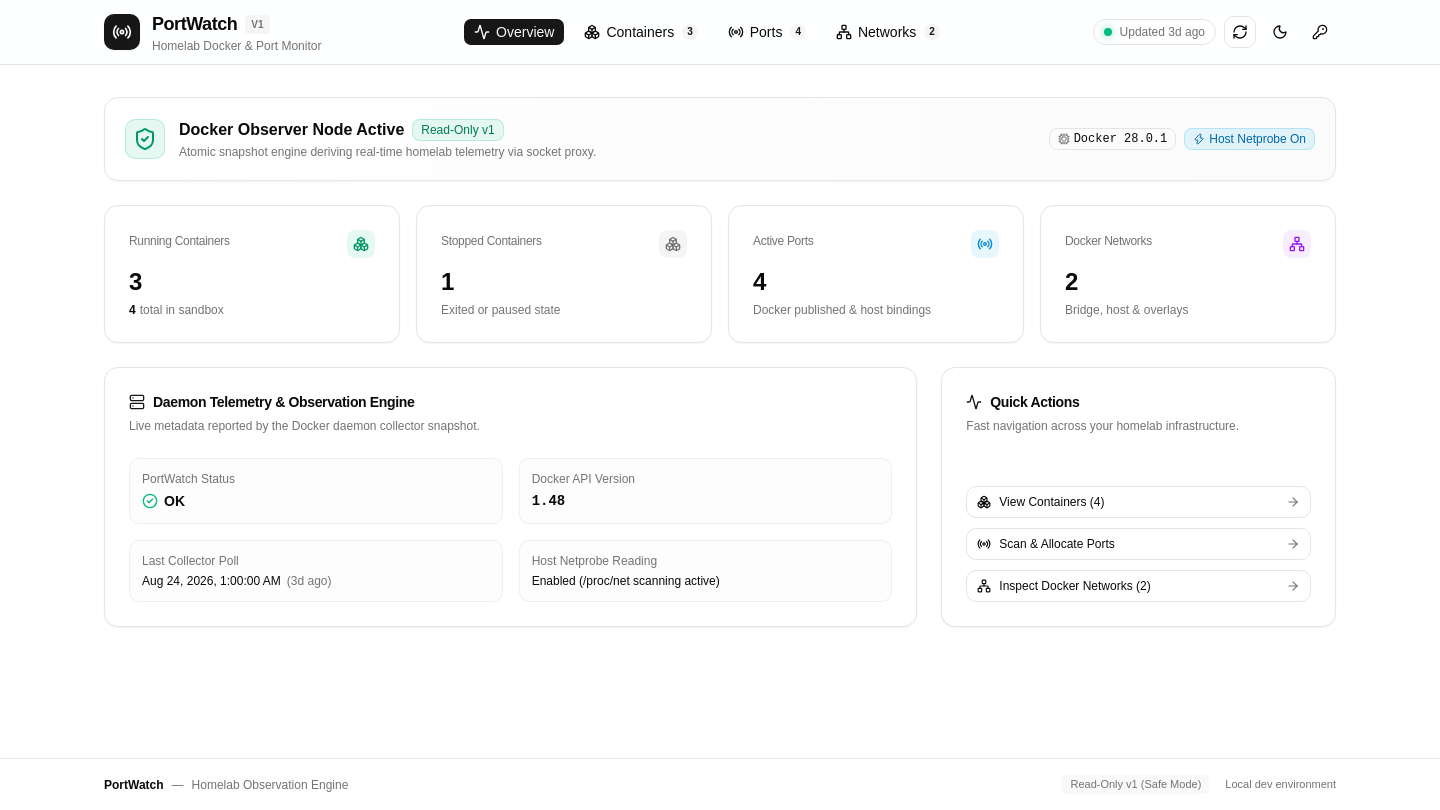
Test: App Dashboard › switches to ports tab and displays port matrix
Expected: the text "Docker 28.0.1" is shown, [1049,128,1176,150]
Click the button "Ports 4" at (767, 32), box [717,18,817,46]
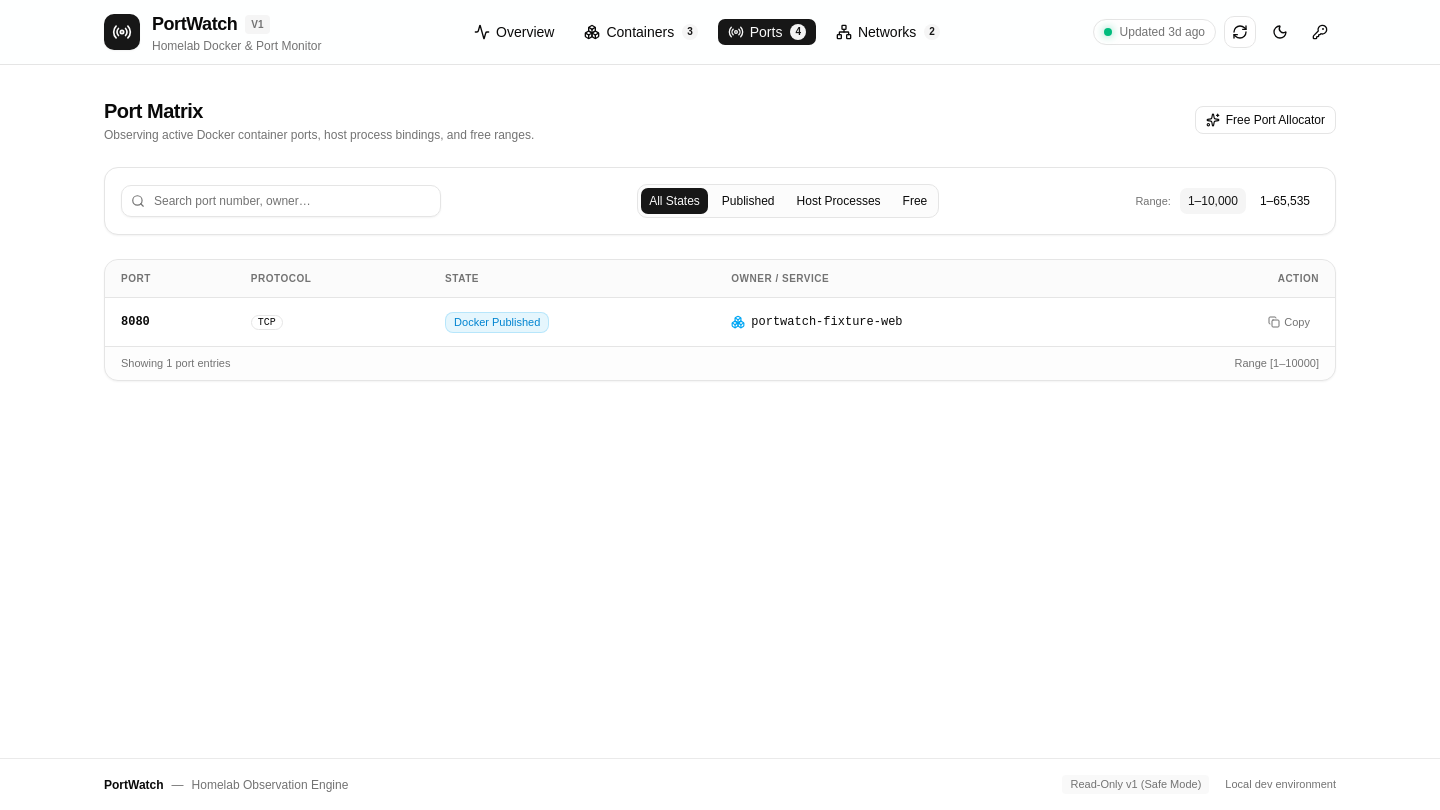
Expected: the text "Docker Published" is shown, [445,312,549,333]
Expected: the heading "Port Matrix" is shown, [104,100,203,122]
Expected: the text "8080" is shown, [105,298,235,346]
